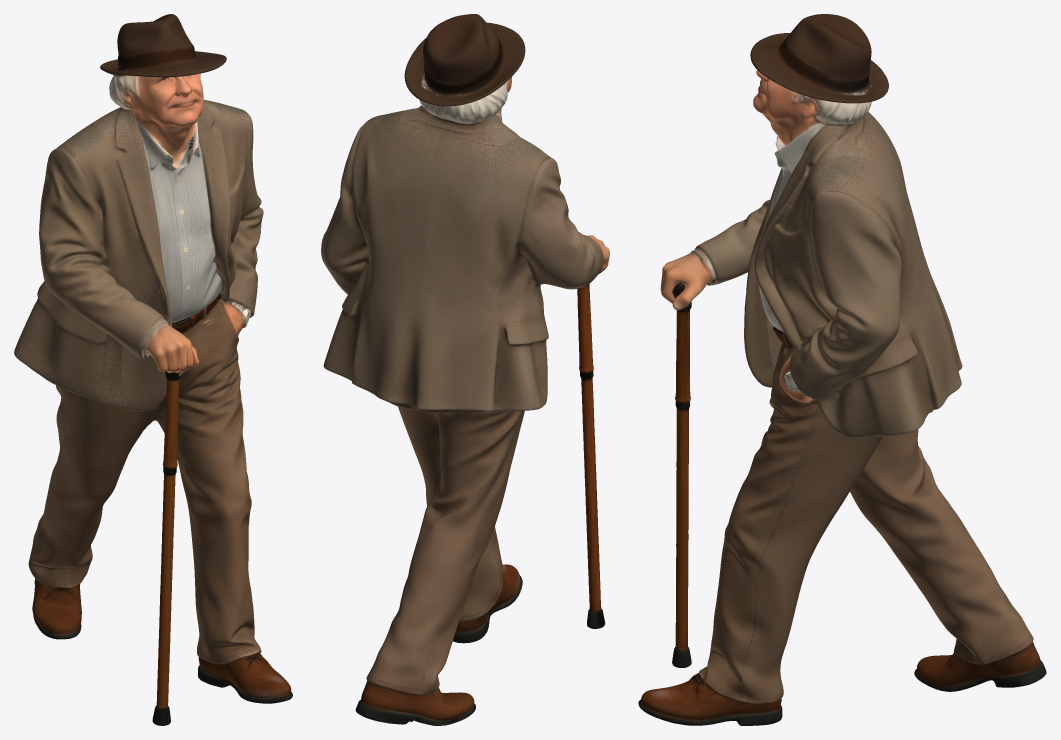
Rendered from lamplighter.glb.
The picture shows the model from 3 angles, left to right: view 1: azimuth 30°, elevation 25°; view 2: azimuth 150°, elevation 25°; view 3: azimuth 270°, elevation 25°; orthographic projection. The views are drawn at different scales.
Visible parts, largest first — view 1: Object_5, Object_6, Object_7; view 2: Object_6, Object_5, Object_7; view 3: Object_6, Object_5, Object_7.
Part boxes in pixels (<box>): Object_5: <box>46,19,292,725</box>; Object_6: <box>14,14,262,639</box>; Object_7: <box>39,17,263,507</box>; Object_6: <box>321,14,592,725</box>; Object_5: <box>413,14,609,643</box>; Object_7: <box>405,15,596,489</box>; Object_6: <box>758,14,1046,691</box>; Object_5: <box>638,20,840,725</box>; Object_7: <box>766,14,858,556</box>.
Bounding box in the file's own units: 0.7379 × 1.9 × 1.03.
Materials: 1 (1 with a texture image).
